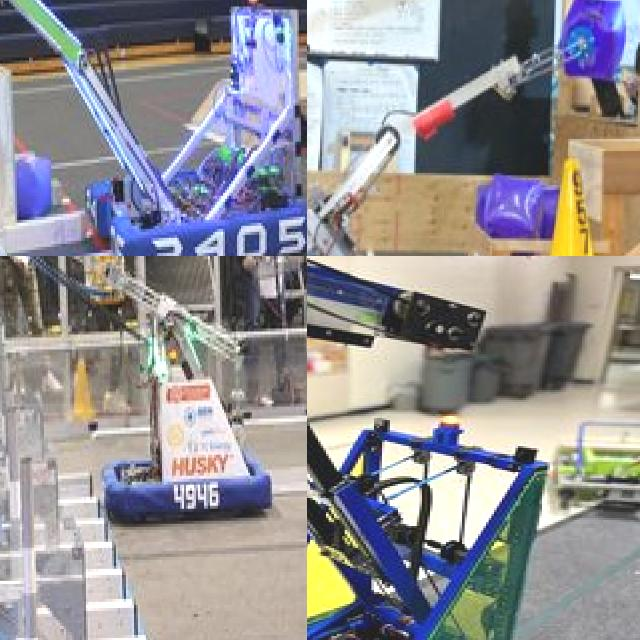FRC-Robots: (307, 256, 562, 640), (0, 256, 298, 578), (307, 0, 640, 256), (0, 0, 307, 256)
